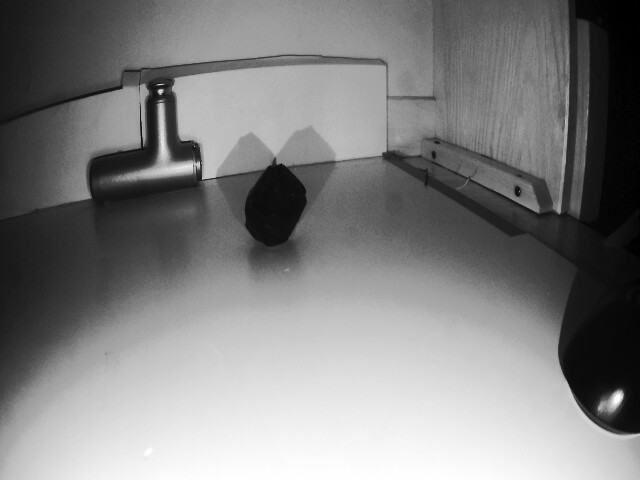silver: (240, 169, 313, 257)
